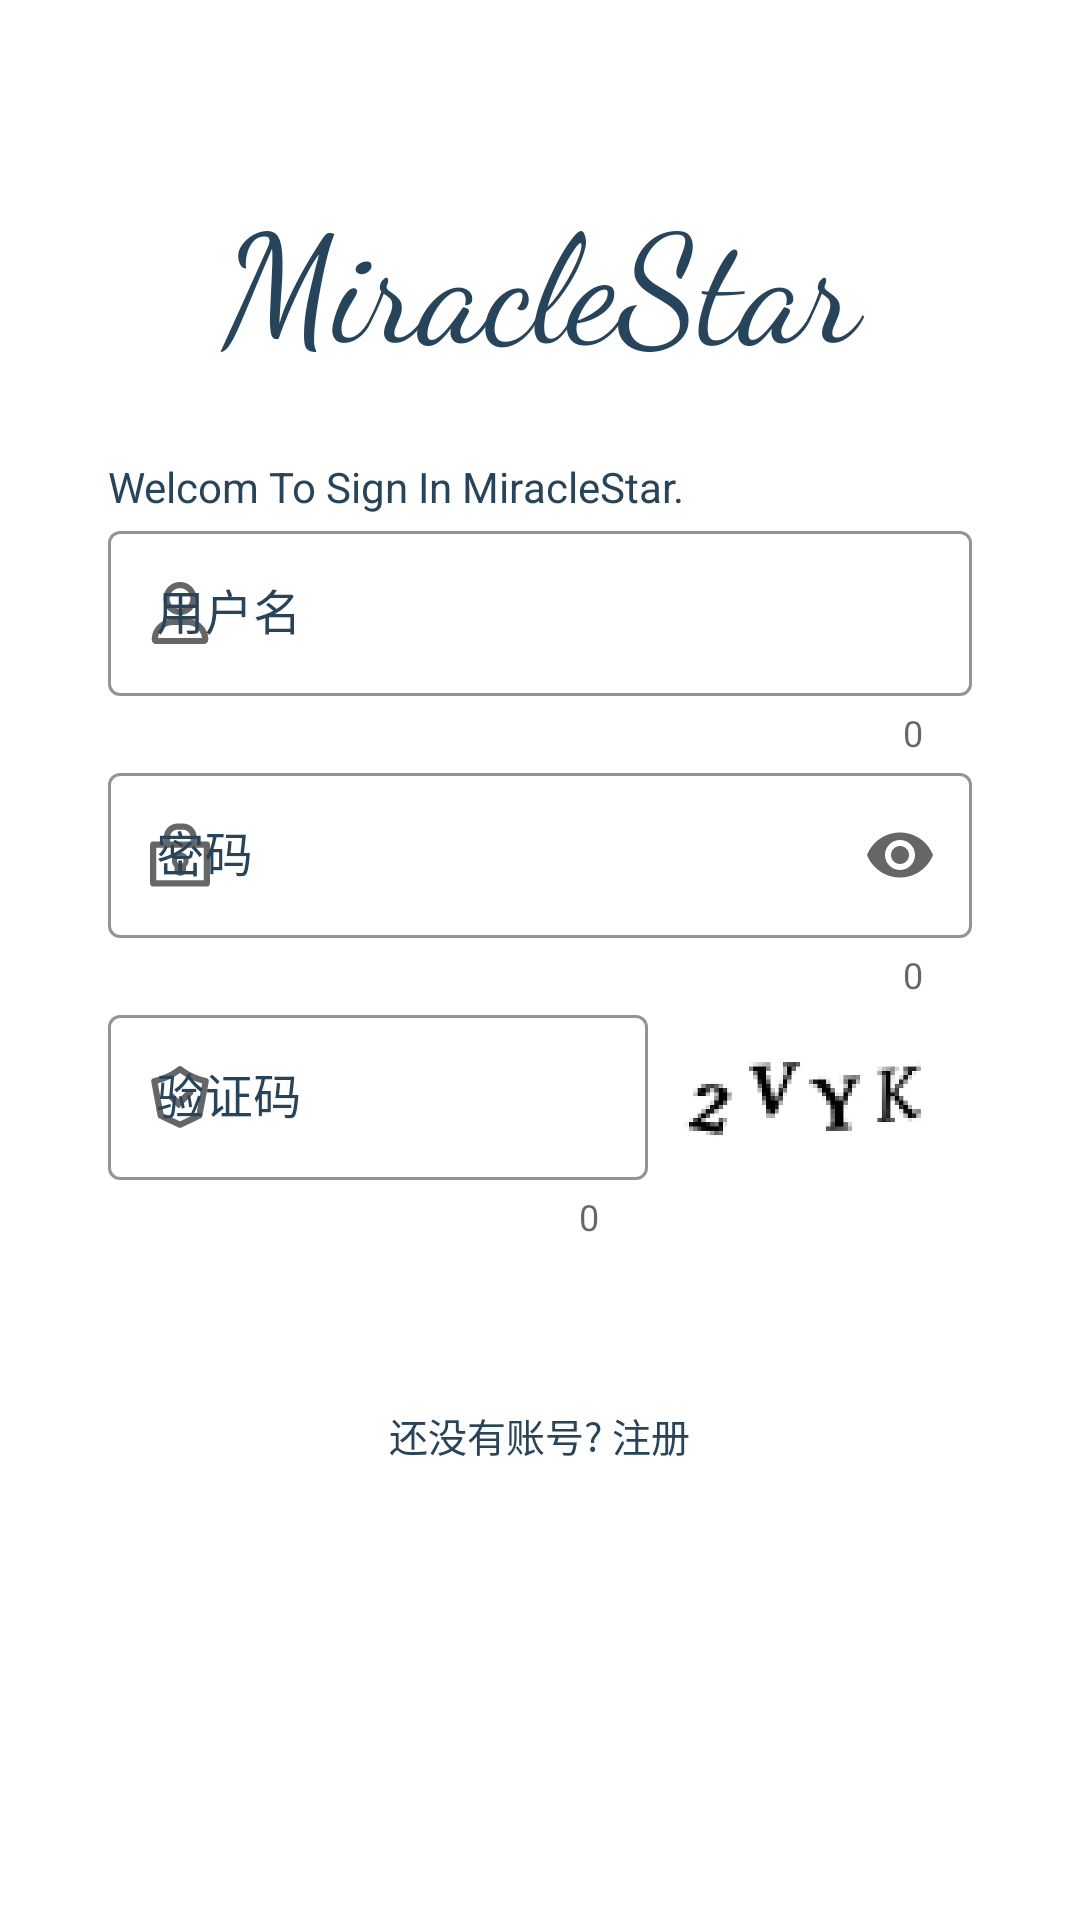

Named icons in this screenshot (1080px x 1920px) and their bounding boxes, {"x1": x1, "y1": y1, "x2": x2, "y2": y2}:
captcha: {"x1": 689, "y1": 1062, "x2": 921, "y2": 1135}
